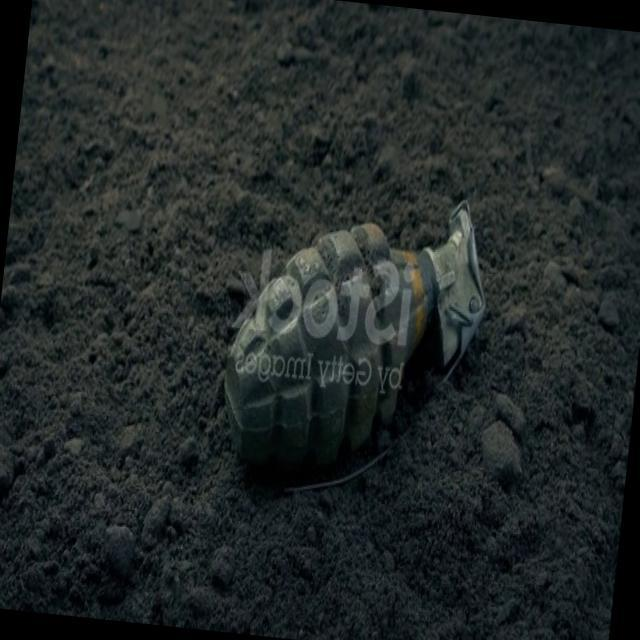grenade: (209, 171, 500, 529)
